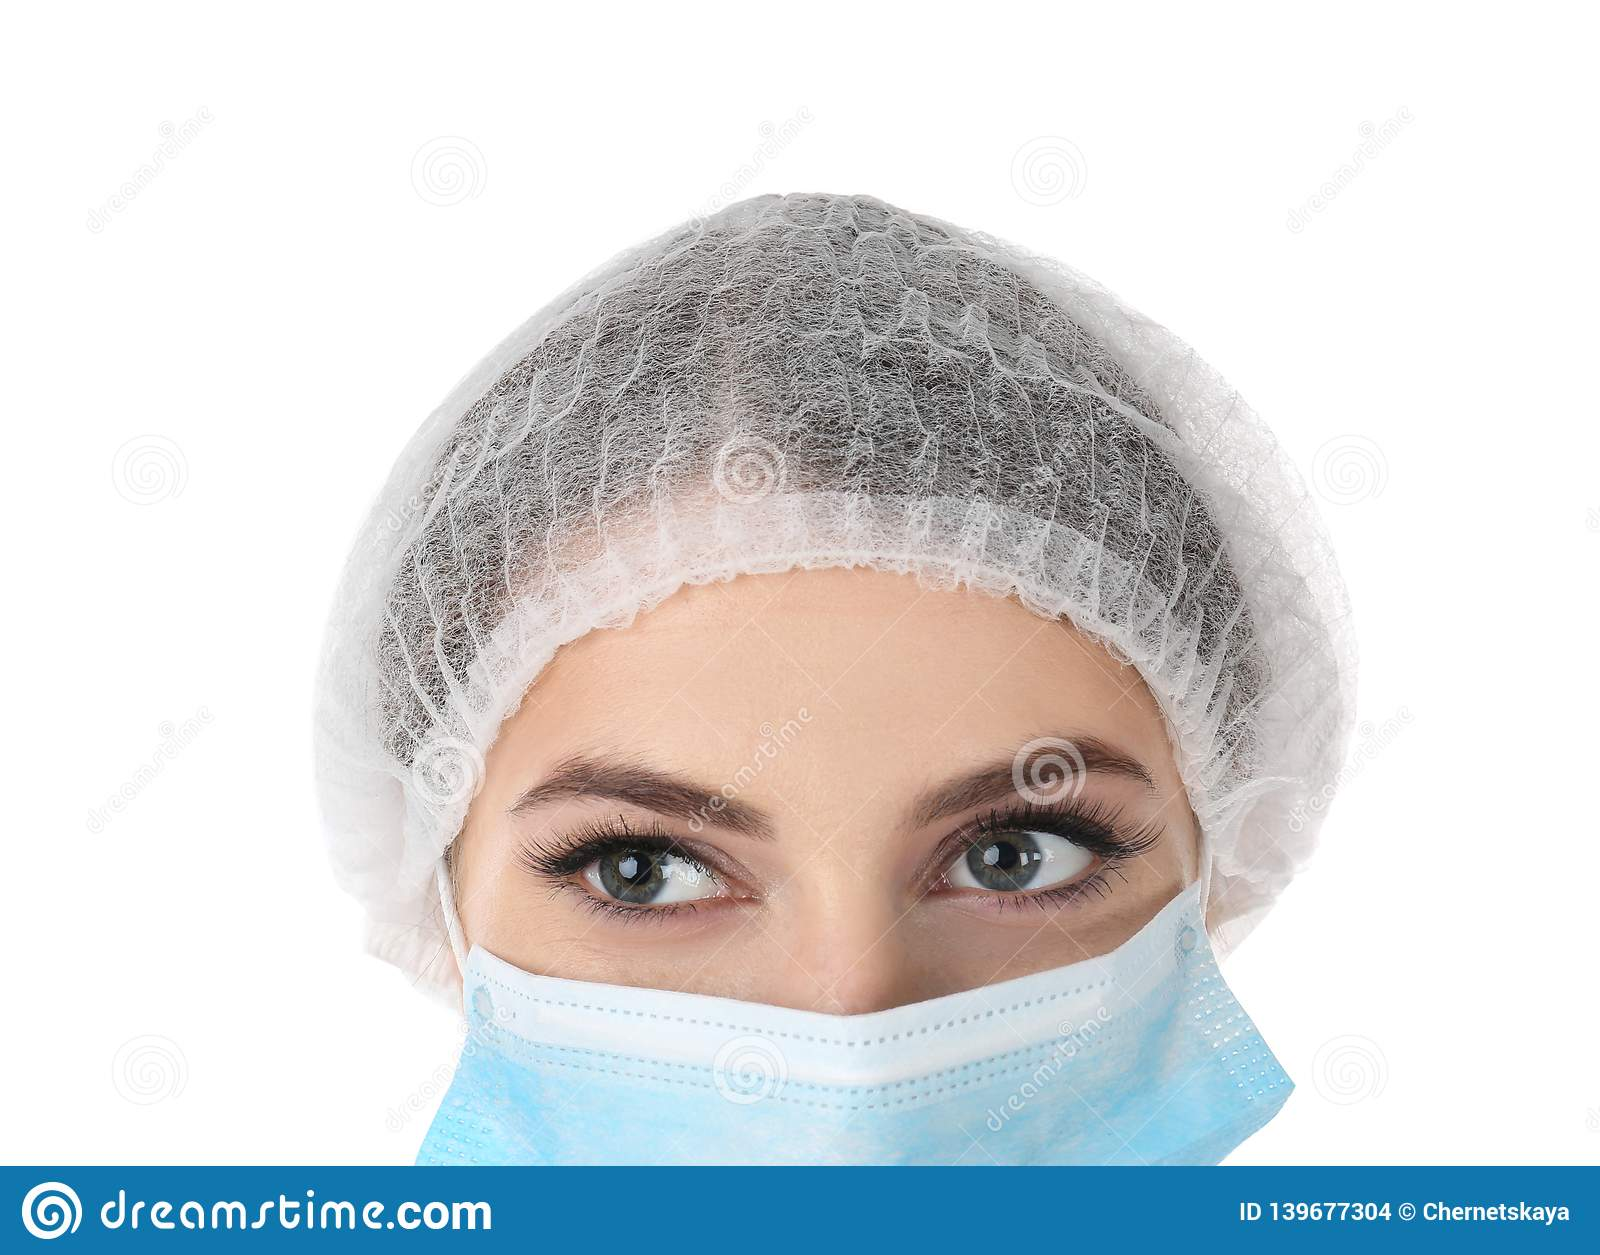mask: (429, 912, 1277, 1171)
